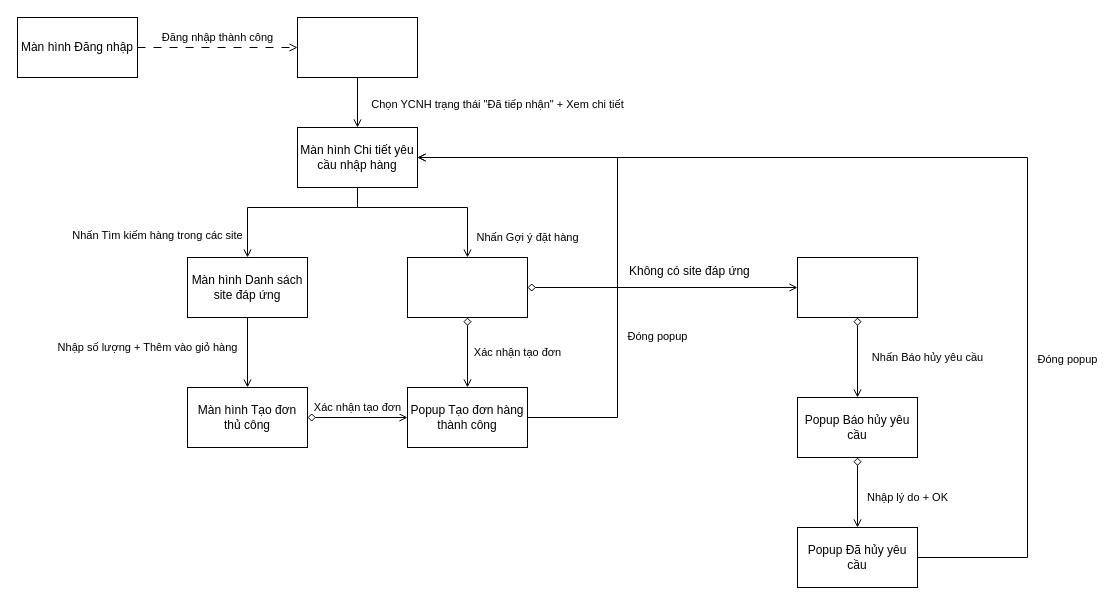
Some shapes in this 1115 by 605 pixel diagram are drawn without their labels. The box of each missing label's shape, as (x1, y1, x2, y2) in pixels:
Màn hình Gợi ý / Đơn hàng đề xuất: (406, 256, 528, 318)
Màn hình Quản lý yêu cầu nhập hàng: (296, 16, 418, 78)
Popup Gợi ý chưa hoàn chỉnh: (796, 256, 918, 318)
